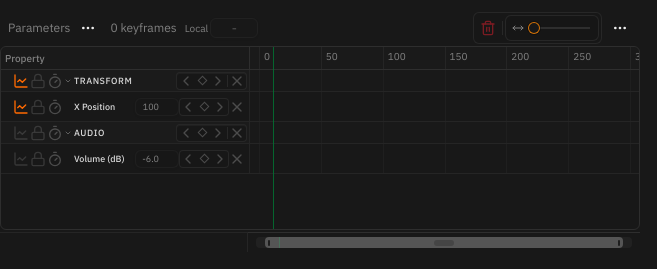
Test: DopesheetEditor property groups › shows the view options menu in sheet mode too
Press the mouse on the button named "sheet view options": coordinates (620, 28) [608,16,632,40]
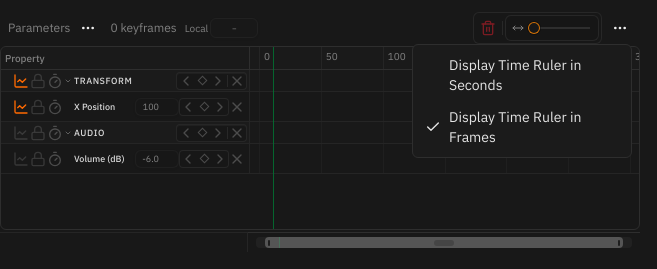
Check: the menu item "Display Time Ruler in Seconds" is shown, box [449,56,581,94]
Check: the menu item "Display Time Ruler in Frames" is shown, box [425,108,581,146]
